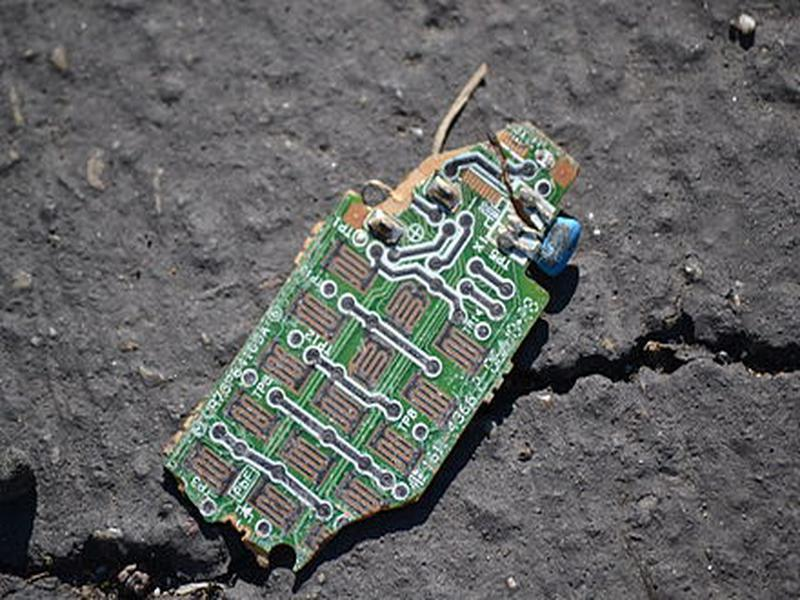circuit_board: (160, 62, 585, 577)
